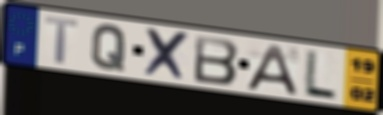A: (243, 43, 300, 97)
B: (192, 33, 241, 87)
L: (300, 48, 339, 102)
Q: (89, 23, 130, 73)
T: (43, 14, 81, 66)
X: (142, 26, 193, 84)
